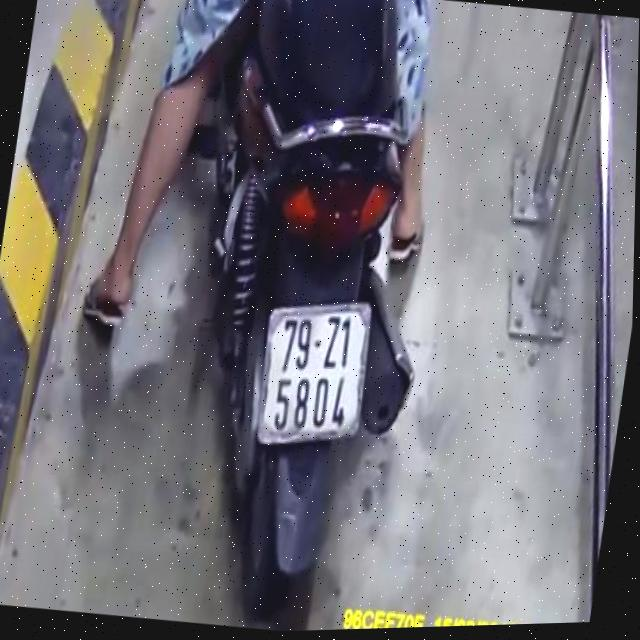motorcycle: (139, 0, 484, 635)
plate: (247, 288, 384, 453)
